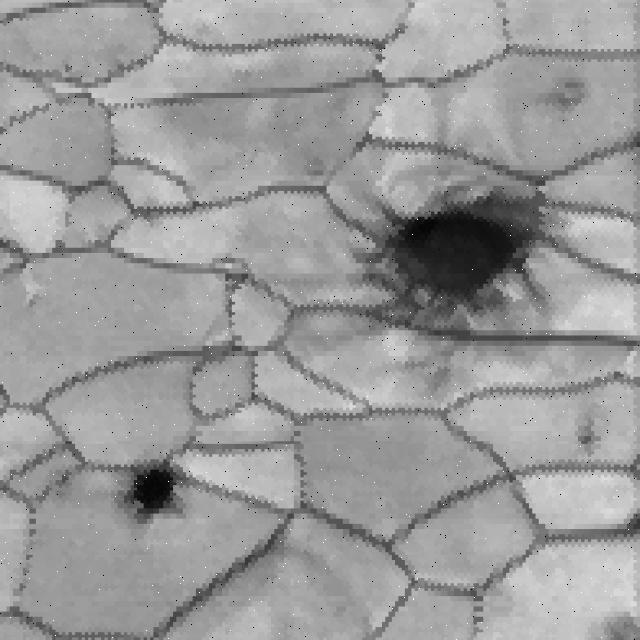good_void: (361, 184, 550, 385), (113, 449, 201, 525), (522, 71, 598, 119), (570, 418, 605, 457), (600, 610, 640, 640), (219, 268, 254, 289)
